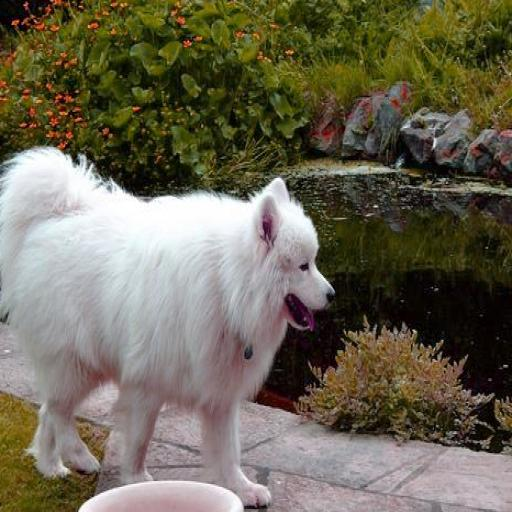dog_face: (259, 184, 340, 338)
